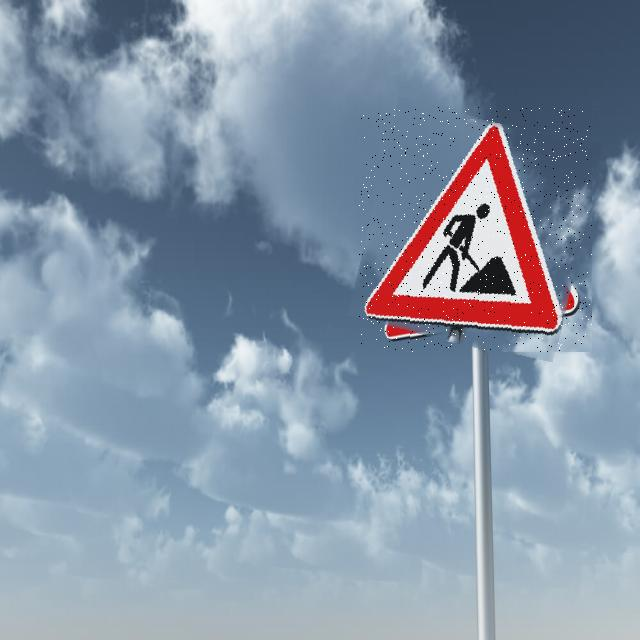roadwork: (359, 107, 592, 352)
